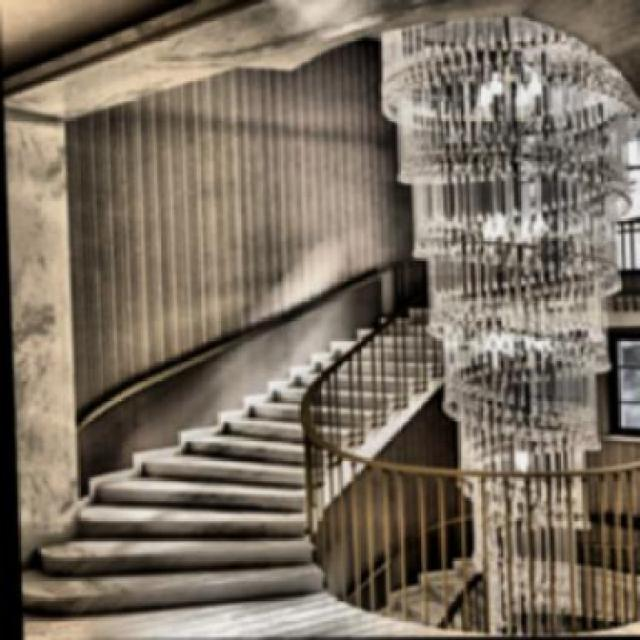stair: (104, 332, 430, 494)
